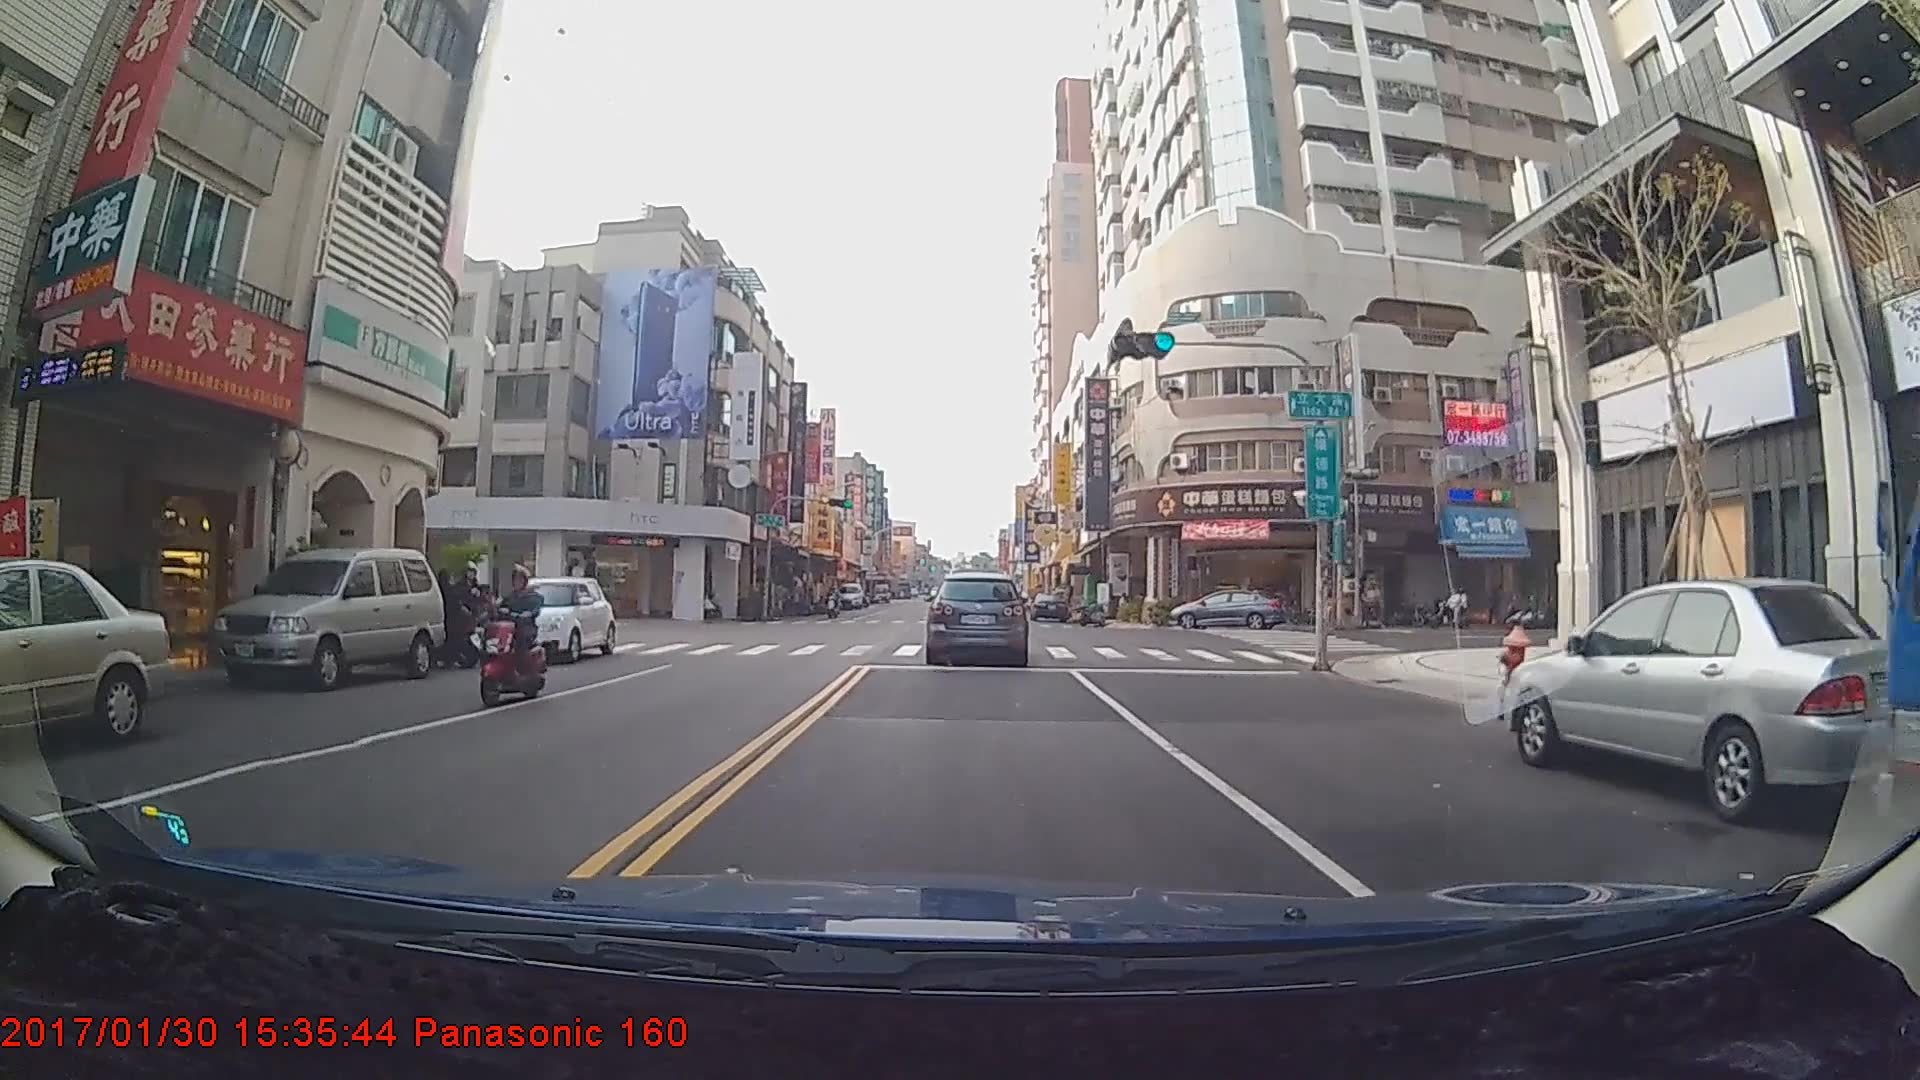rider: (473, 567, 552, 707), (1427, 582, 1475, 631), (819, 588, 845, 624)
vehicle: (1503, 577, 1918, 822), (0, 554, 174, 766), (208, 548, 446, 689), (482, 576, 611, 665), (926, 573, 1027, 661), (1169, 585, 1287, 632), (1030, 591, 1068, 620), (837, 580, 863, 608)
